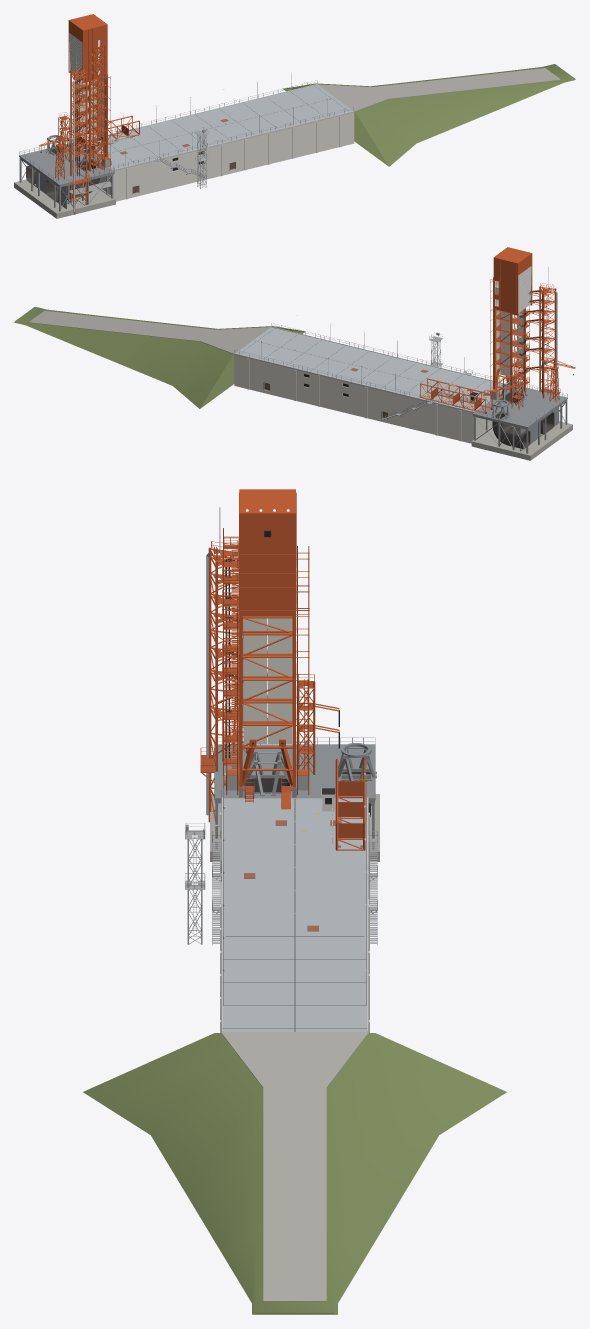
The model's file is pad.glb.
The picture shows the model from 3 angles, top to bottom: view 1: azimuth 30°, elevation 25°; view 2: azimuth 150°, elevation 25°; view 3: azimuth 270°, elevation 25°; orthographic projection. The views are drawn at different scales.
Parts seen in each view (by area): view 1: LaunchStand_White, LaunchStand_Deckpaint, Ramp_Earth, Ramp_Concrete, Erector_Red, LaunchStand_Grey, LaunchStand_Concrete, UmbilicalTower_Red, LaunchStand_GreyRails, Erector_ReddeckStairs, Erector_RedStairrails, LaunchStand_Duct (+7 smaller); view 2: LaunchStand_White, LaunchStand_Deckpaint, Ramp_Earth, Erector_Red, Ramp_Concrete, LaunchStand_Grey, LaunchStand_Concrete, UmbilicalTower_Red, LaunchStand_Duct, Erector_Curtain, LaunchStand_GreyRails, Stage2Erector_Red (+4 smaller); view 3: Ramp_Earth, LaunchStand_Deckpaint, Ramp_Concrete, Erector_Red, Erector_Curtain, LaunchStand_Grey, UmbilicalTower_Red, Erector_ReddeckStairs, LaunchStand_DeckStairs, LaunchStand_White, CameraTower_Galv, LaunchStand_Joint (+2 smaller).
Part boxes in pixels (left/top/right/bottom): LaunchStand_White: left=98, top=84, right=354, bottom=201; LaunchStand_Deckpaint: left=78, top=84, right=354, bottom=170; Ramp_Earth: left=283, top=64, right=575, bottom=166; Ramp_Concrete: left=318, top=68, right=560, bottom=112; Erector_Red: left=68, top=14, right=110, bottom=173; LaunchStand_Grey: left=19, top=142, right=114, bottom=211; LaunchStand_Concrete: left=14, top=179, right=115, bottom=218; UmbilicalTower_Red: left=70, top=67, right=90, bottom=214; LaunchStand_GreyRails: left=19, top=80, right=353, bottom=182; Erector_ReddeckStairs: left=90, top=46, right=104, bottom=169; Erector_RedStairrails: left=89, top=43, right=104, bottom=168; LaunchStand_Duct: left=26, top=148, right=99, bottom=202; LaunchStand_White: left=234, top=326, right=504, bottom=443; LaunchStand_Deckpaint: left=234, top=327, right=506, bottom=413; Ramp_Earth: left=14, top=307, right=305, bottom=408; Erector_Red: left=490, top=247, right=532, bottom=403; Ramp_Concrete: left=29, top=310, right=270, bottom=354; LaunchStand_Grey: left=472, top=386, right=567, bottom=453; LaunchStand_Concrete: left=471, top=421, right=572, bottom=460; UmbilicalTower_Red: left=525, top=286, right=559, bottom=398; LaunchStand_Duct: left=492, top=393, right=554, bottom=449; Erector_Curtain: left=496, top=310, right=523, bottom=376; LaunchStand_GreyRails: left=234, top=323, right=567, bottom=425; Stage2Erector_Red: left=420, top=378, right=492, bottom=413; Ramp_Earth: left=83, top=1033, right=506, bottom=1314; LaunchStand_Deckpaint: left=222, top=798, right=367, bottom=1032; Ramp_Concrete: left=221, top=1032, right=368, bottom=1301; Erector_Red: left=223, top=489, right=309, bottom=795; Erector_Curtain: left=243, top=618, right=292, bottom=743; LaunchStand_Grey: left=214, top=744, right=375, bottom=849; UmbilicalTower_Red: left=201, top=547, right=239, bottom=822; Erector_ReddeckStairs: left=224, top=544, right=239, bottom=784; LaunchStand_DeckStairs: left=212, top=838, right=377, bottom=944; LaunchStand_White: left=220, top=797, right=369, bottom=1032; CameraTower_Galv: left=185, top=823, right=205, bottom=944; LaunchStand_Joint: left=223, top=799, right=366, bottom=1031.
Size of the model in its own units: 166 by 51.93 by 57.
